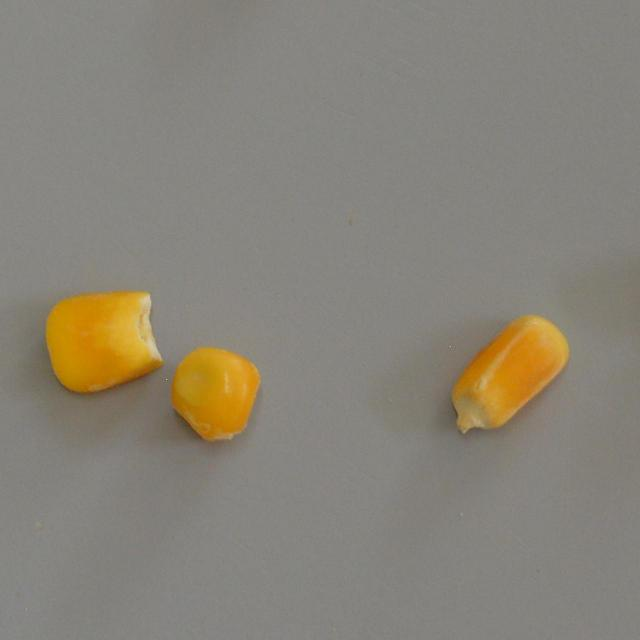dañado: (41, 284, 164, 398)
entero: (446, 310, 570, 444)
pelicula: (169, 344, 264, 446)
